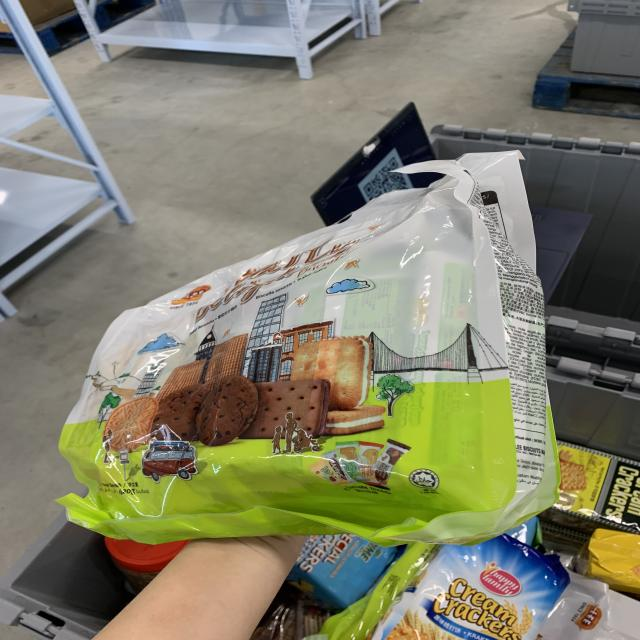object_name: (88, 200, 545, 525)
